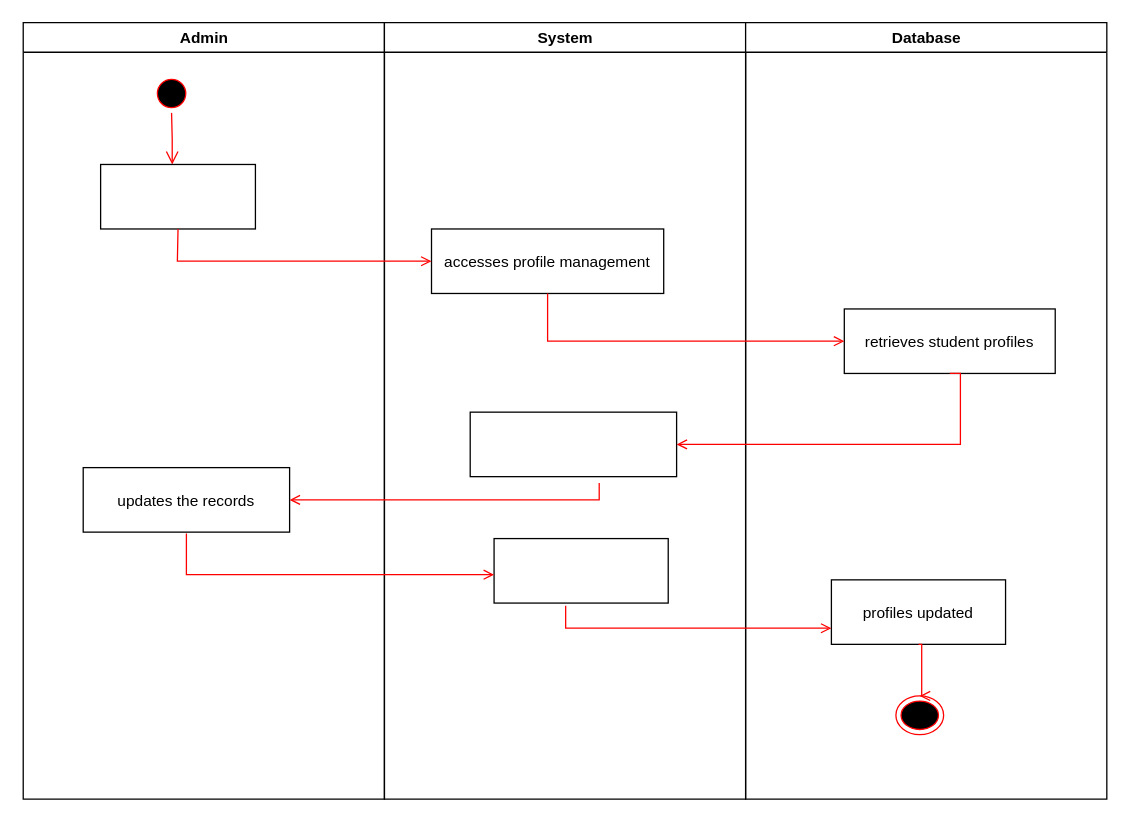
Some shapes in this 1129 by 822 pixel diagram are drawn without their labels. Here are the shapes that lost their labels. From the top down, the centre of each, then its label:
point (177, 196): login
point (573, 444): displays profile data
point (580, 570): updates the database
